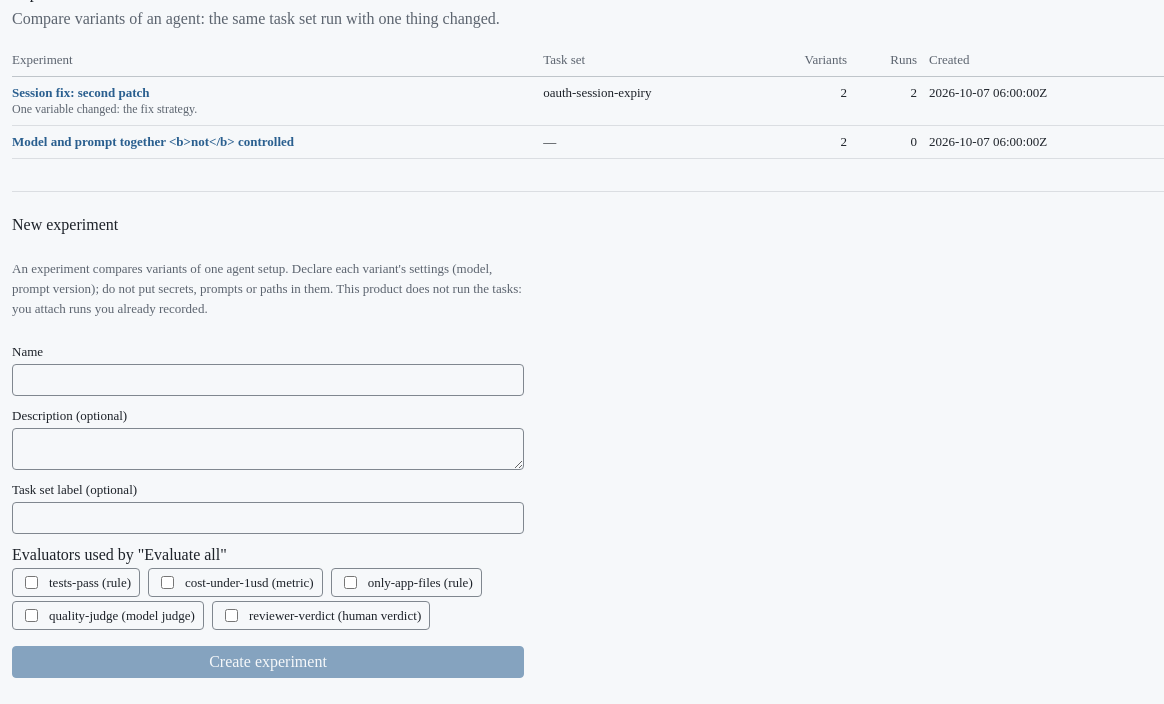
Experiments list › offers the create form only when the person may write, and posts the declared body
Type "  New one " into the field labelled "Name".
click(268, 380); type("  New one ")  # box [12,364,524,396]
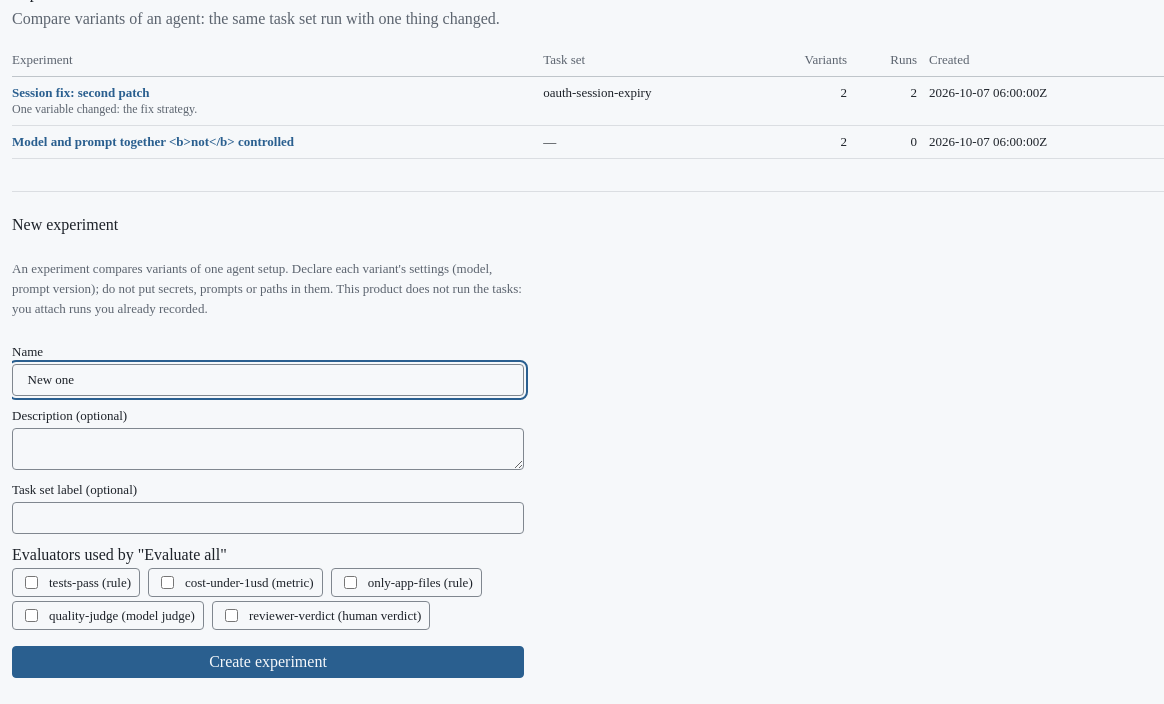
Click the button "Create experiment".
click(268, 662)  # box [12,646,524,678]
(page scrolled)
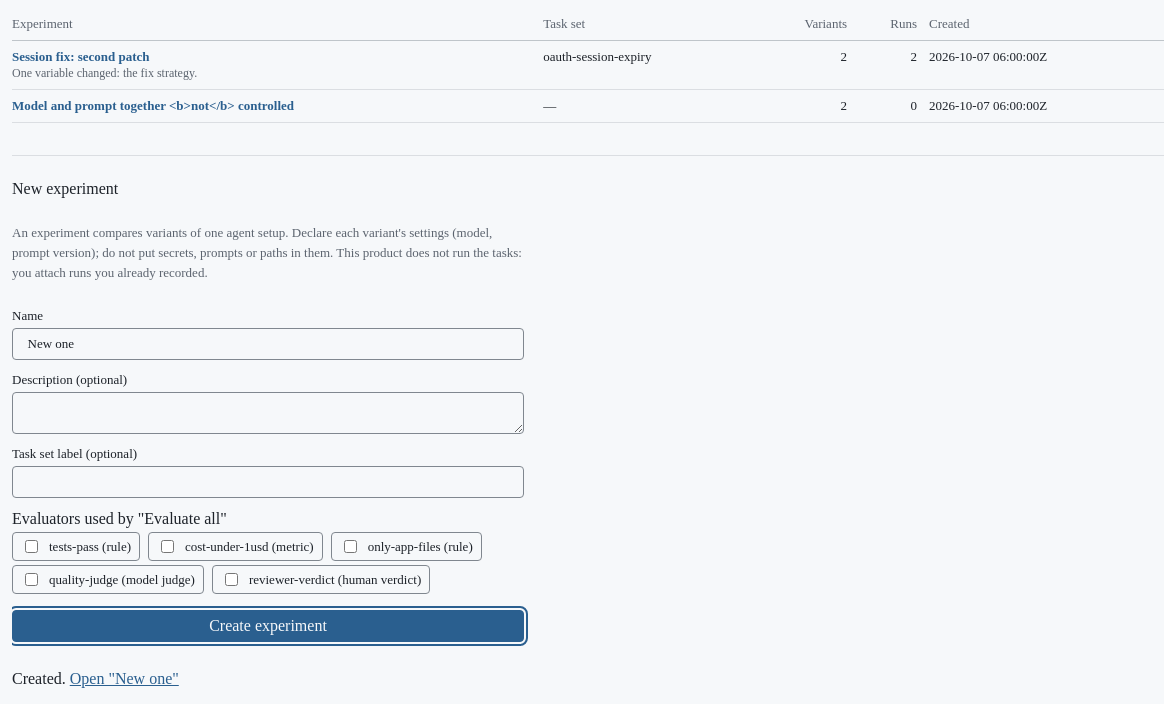
Expected: the message with test id "experiment-created" shows "New one", [70,670,179,687]
